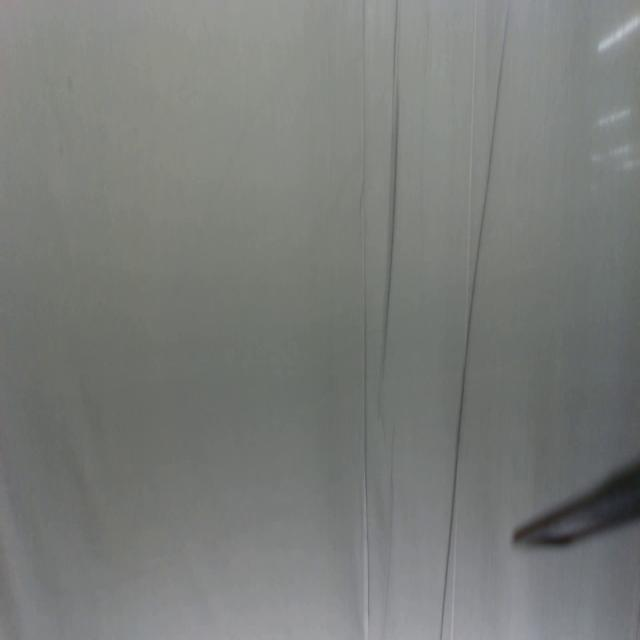crease: (439, 0, 512, 638), (381, 0, 402, 375), (359, 0, 371, 638)
